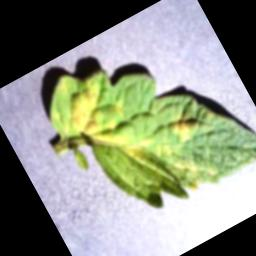Leaf_Mold: (51, 78, 114, 145), (115, 129, 162, 171), (161, 105, 201, 144)
